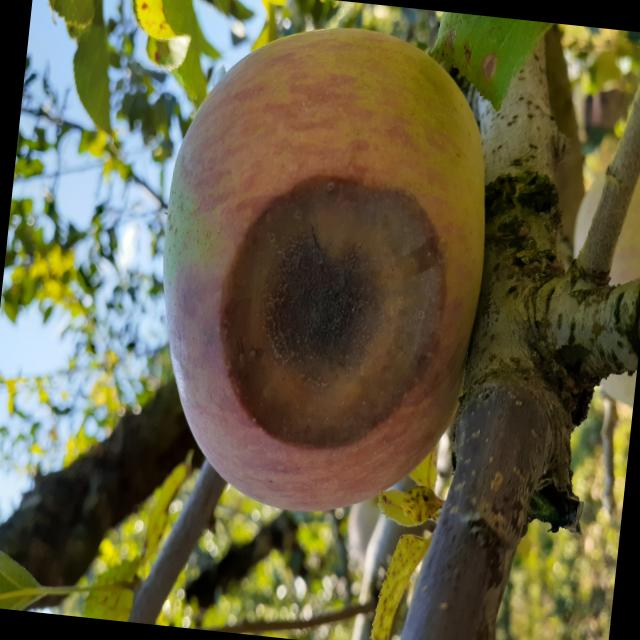rotten: (127, 1, 520, 549)
